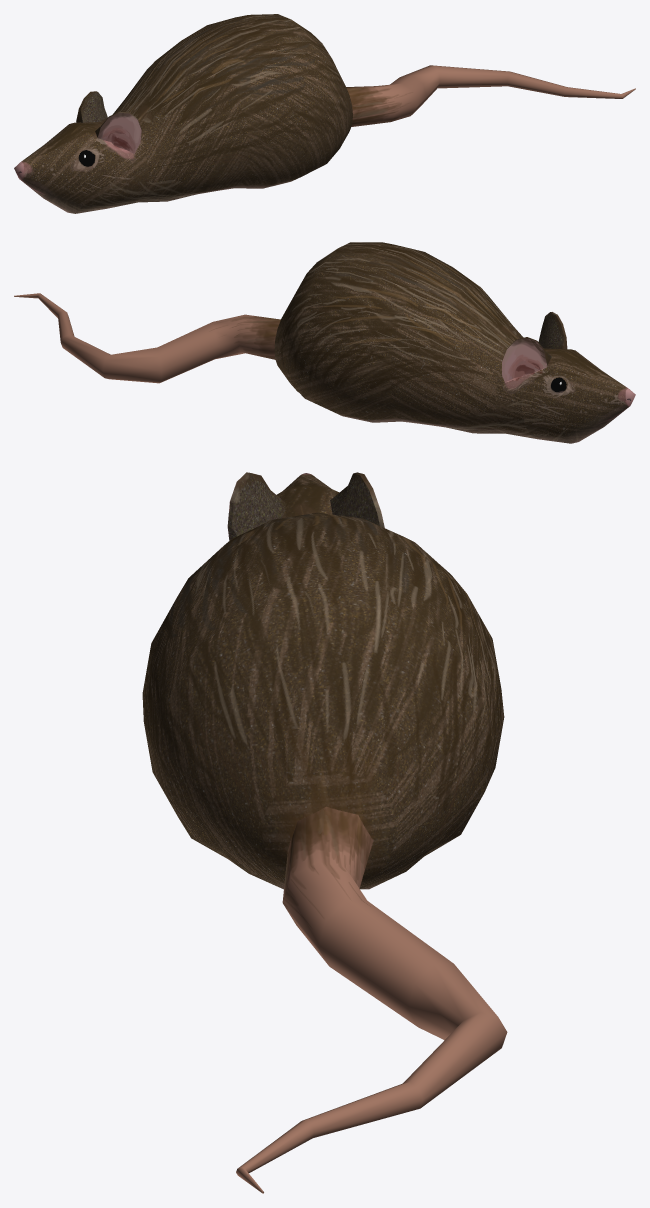
Rendered from low_poly_rat.glb.
3 views of the same model, one above another, from view 1: azimuth 30°, elevation 25°; view 2: azimuth 150°, elevation 25°; view 3: azimuth 270°, elevation 25° (orthographic). The views are drawn at different scales.
Parts seen in each view (by area): view 1: rat1_pCylinder24; view 2: rat1_pCylinder24; view 3: rat1_pCylinder24.
Part boxes in pixels (left/top/right/bottom): rat1_pCylinder24: left=14, top=14, right=635, bottom=213; rat1_pCylinder24: left=14, top=242, right=635, bottom=443; rat1_pCylinder24: left=142, top=472, right=507, bottom=1193.
Bounding box in the file's own units: 3.36 × 0.8001 × 0.8696.
Materials: 1 (1 with a texture image).
